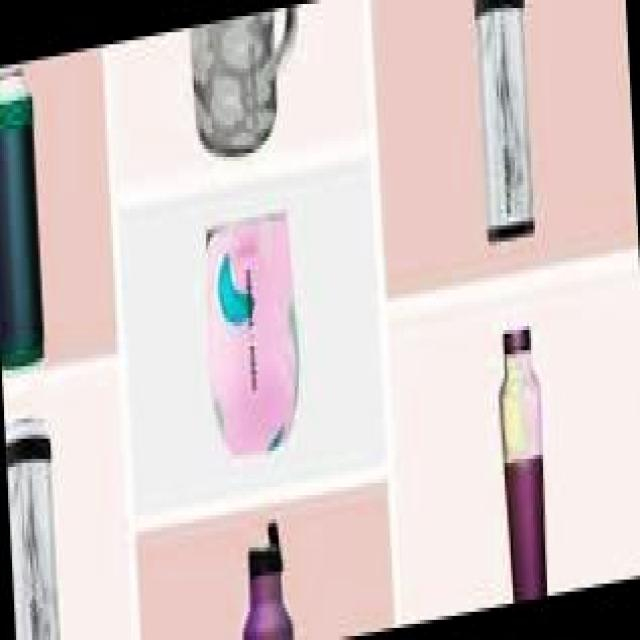bottle: (172, 187, 362, 534), (447, 300, 593, 614), (161, 0, 343, 201), (442, 0, 574, 270), (0, 48, 91, 394), (2, 362, 87, 640), (230, 463, 319, 640)
